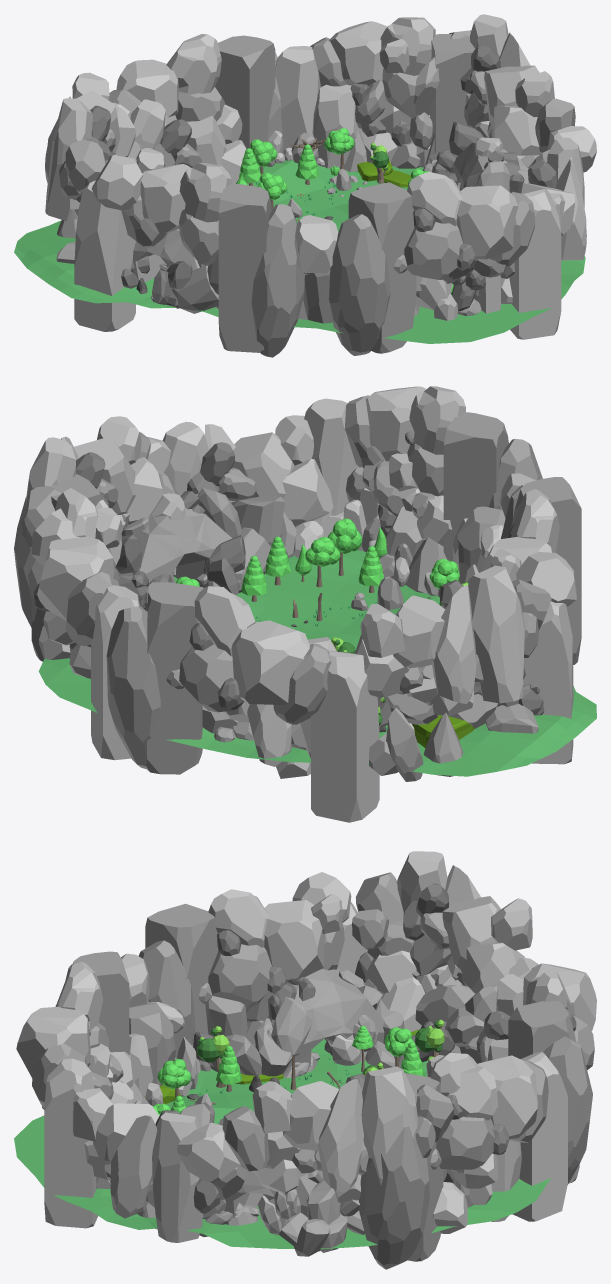
Rendered from forest_wWall.fbx.
3 renders of one model, top to bottom at view 1: azimuth 30°, elevation 25°; view 2: azimuth 150°, elevation 25°; view 3: azimuth 270°, elevation 25°, orthographic. The views are drawn at different scales.
Visible parts, largest first — view 1: WallRocks, Plane, Rocks, Cave01, Trees, Cave02; view 2: WallRocks, Plane, Cave02, Rocks, Trees, Cave01; view 3: WallRocks, Cave01, Plane, Cave02, Trees, Rocks.
Boxes of the visible parts, <box> form: WallRocks: <box>45,14,596,357</box>; Plane: <box>14,160,585,343</box>; Rocks: <box>57,121,512,320</box>; Cave01: <box>56,229,218,313</box>; Trees: <box>236,128,453,294</box>; Cave02: <box>429,122,528,192</box>; WallRocks: <box>14,386,581,822</box>; Plane: <box>38,550,596,776</box>; Cave02: <box>114,488,288,611</box>; Rocks: <box>69,488,478,781</box>; Trees: <box>176,518,468,725</box>; Cave01: <box>485,666,544,733</box>; WallRocks: <box>16,851,596,1269</box>; Cave01: <box>193,952,419,1084</box>; Plane: <box>14,1039,551,1249</box>; Cave02: <box>179,1103,364,1256</box>; Trees: <box>152,1019,448,1115</box>; Rocks: <box>96,1029,473,1207</box>.
Bounding box in the file's own units: 294 × 113 × 277.
